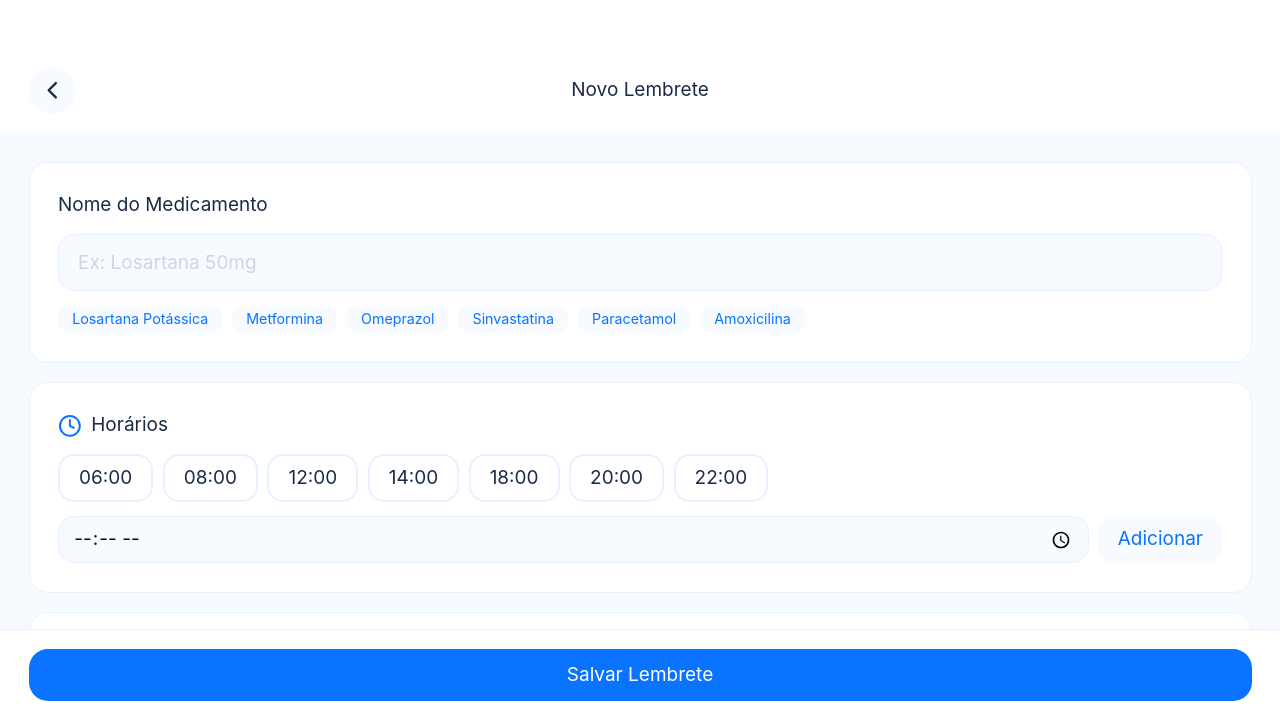
Test: telas de lembretes e notificações › exige nome e horário
Click the button "Salvar Lembrete". click: (640, 675)
box: [28, 649, 1252, 701]
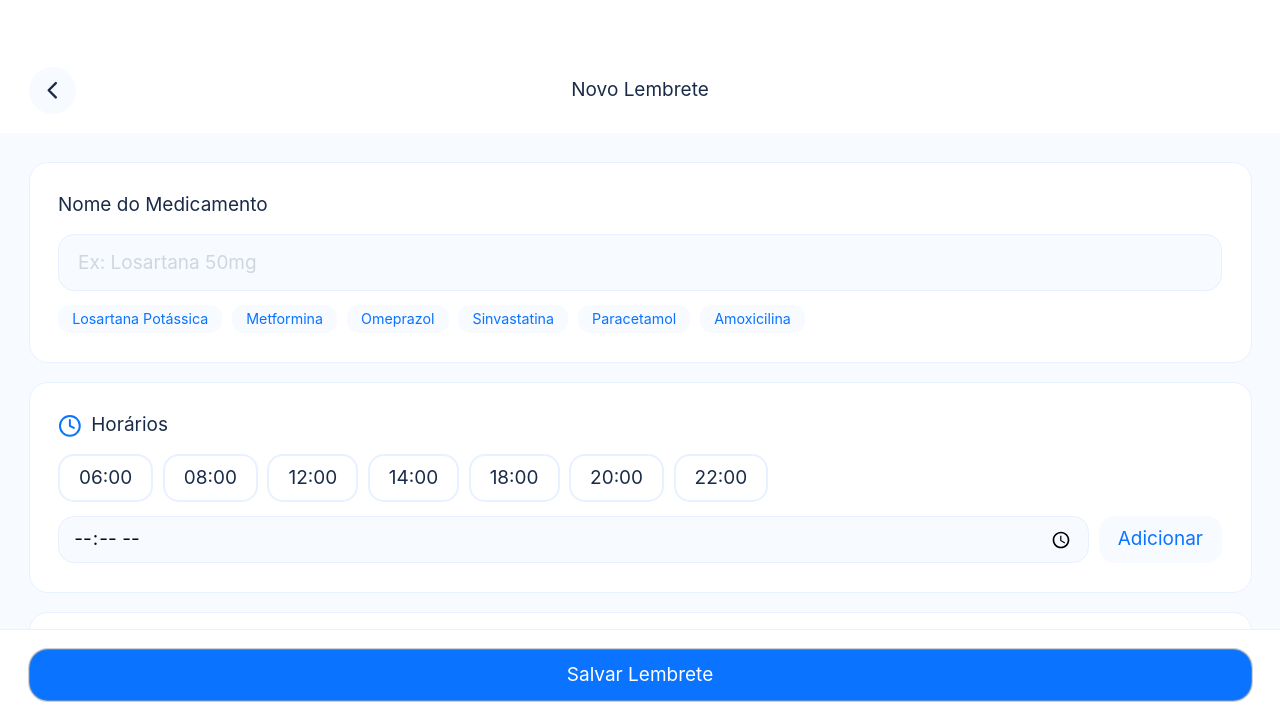
Type "X" into the field labelled "Nome do Medicamento". click: (640, 262)
box: [58, 234, 1222, 291]
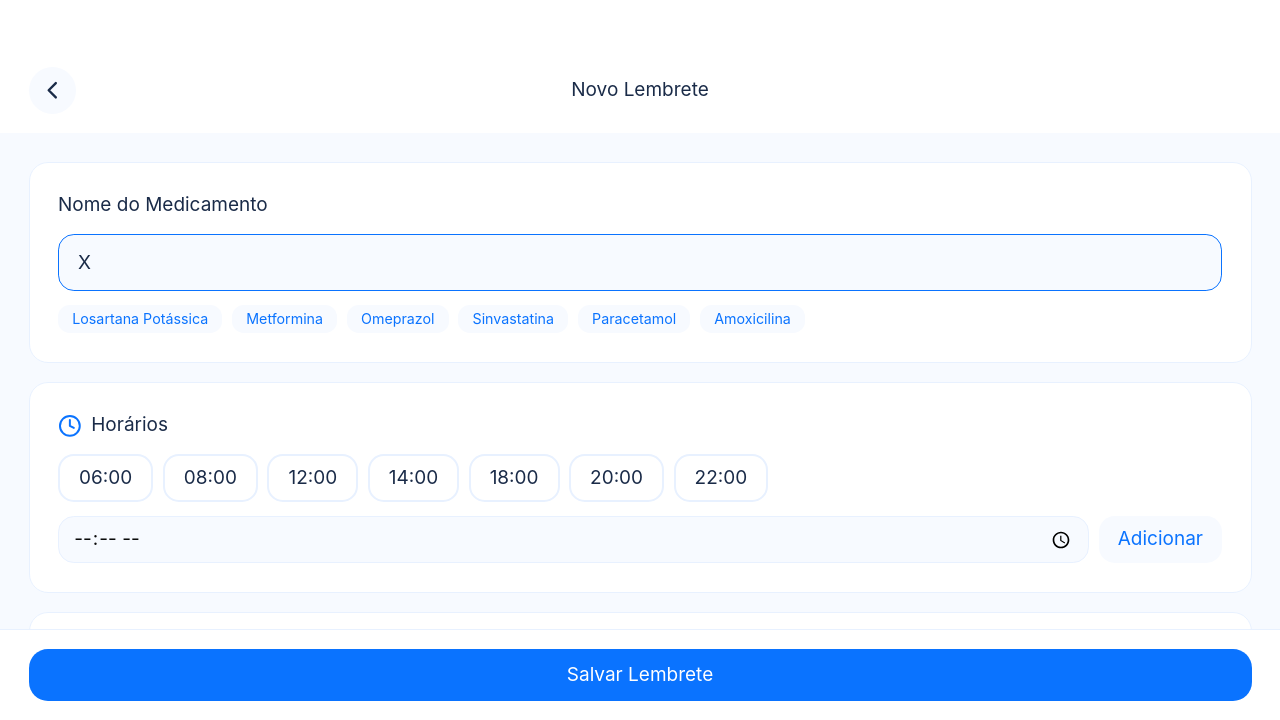
Click the button "Salvar Lembrete". click: (640, 675)
box: [28, 649, 1252, 701]
(page scrolled)
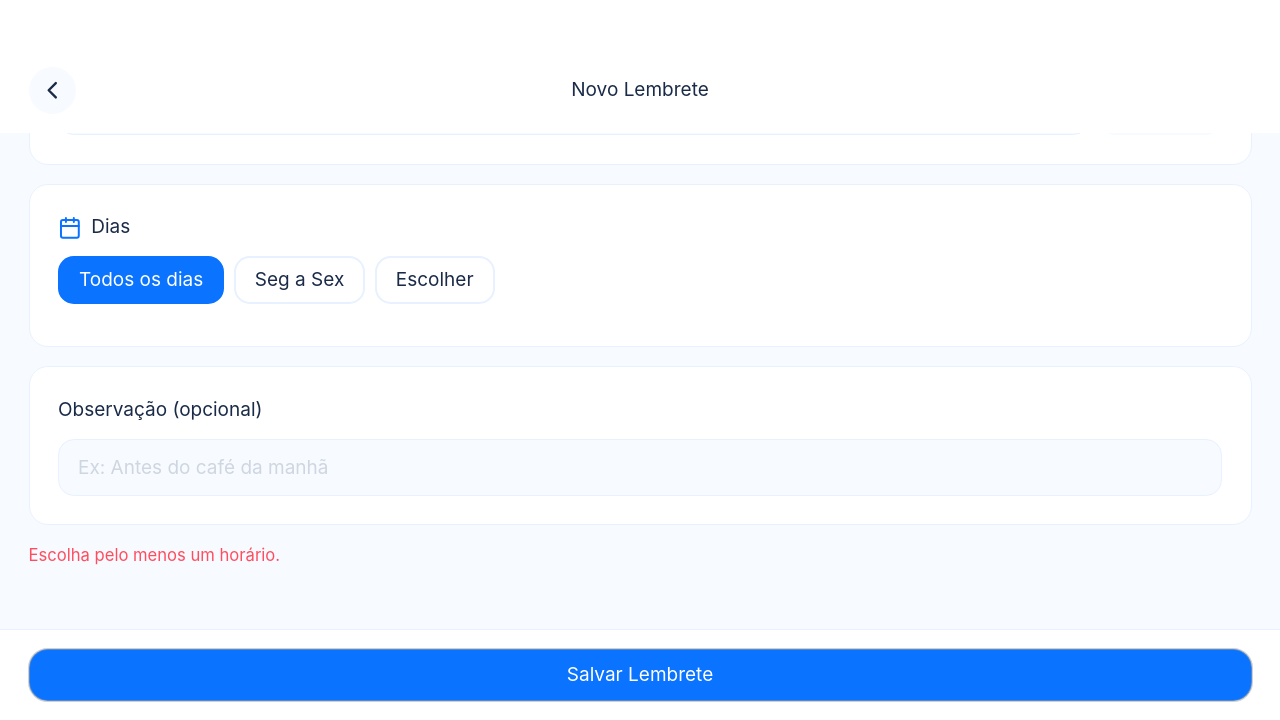
expect the message shows "horário": met, box [28, 545, 280, 565]
